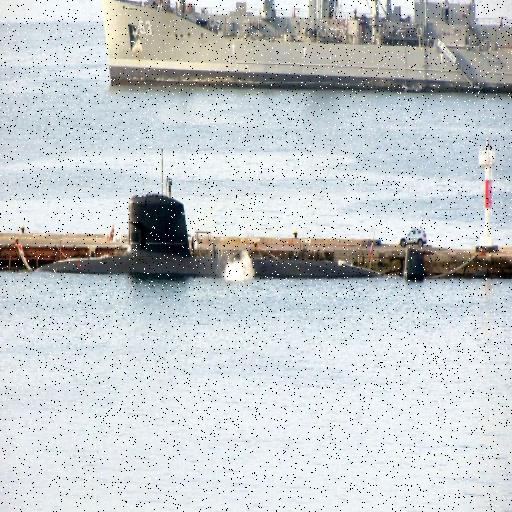submarine: (36, 193, 449, 276)
